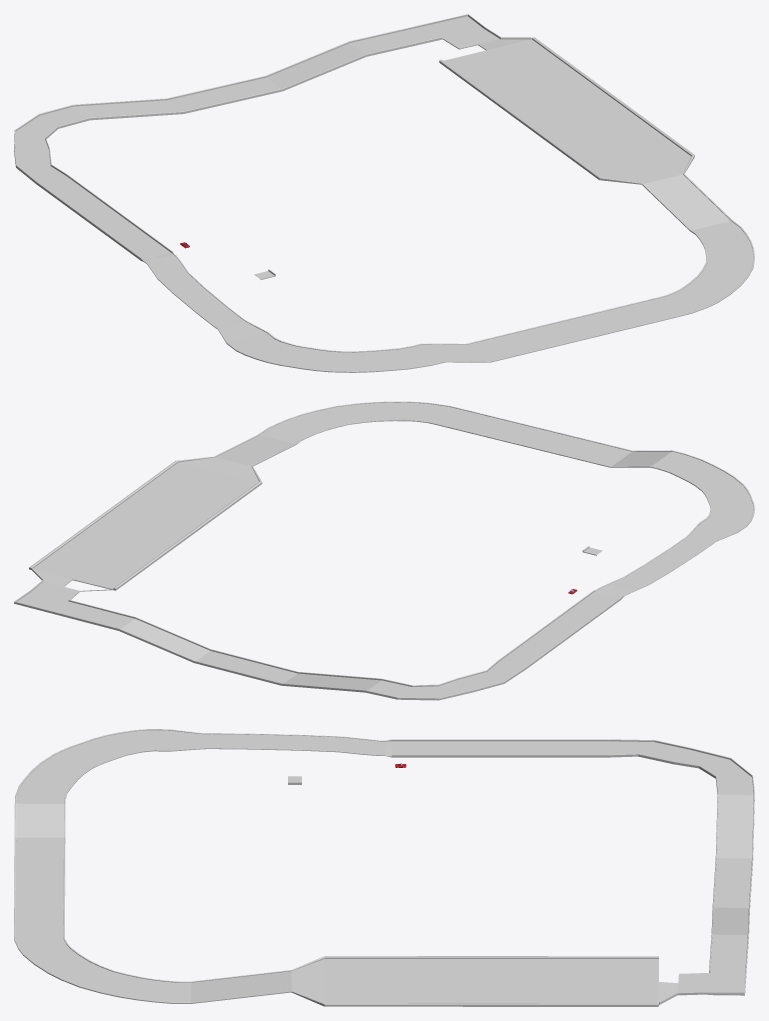
3 views of the same model, one above another, from view 1: azimuth 30°, elevation 25°; view 2: azimuth 150°, elevation 25°; view 3: azimuth 270°, elevation 25° (orthographic). The views are drawn at different scales.
Visible parts, largest first — view 1: Cube.003; view 2: Cube.003; view 3: Cube.003.
Boxes of the visible parts, left/top/right/bottom form: Cube.003: left=14, top=14, right=754, bottom=372; Cube.003: left=14, top=401, right=754, bottom=700; Cube.003: left=14, top=729, right=754, bottom=1006.
Bounding box in the file's own units: 158 × 5.07 × 179.
1 material, 1 textured.
